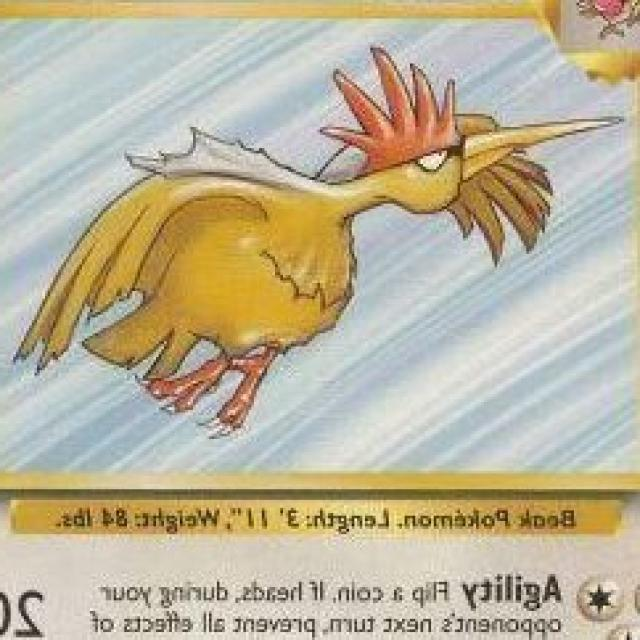Fearow: (79, 83, 567, 384)
